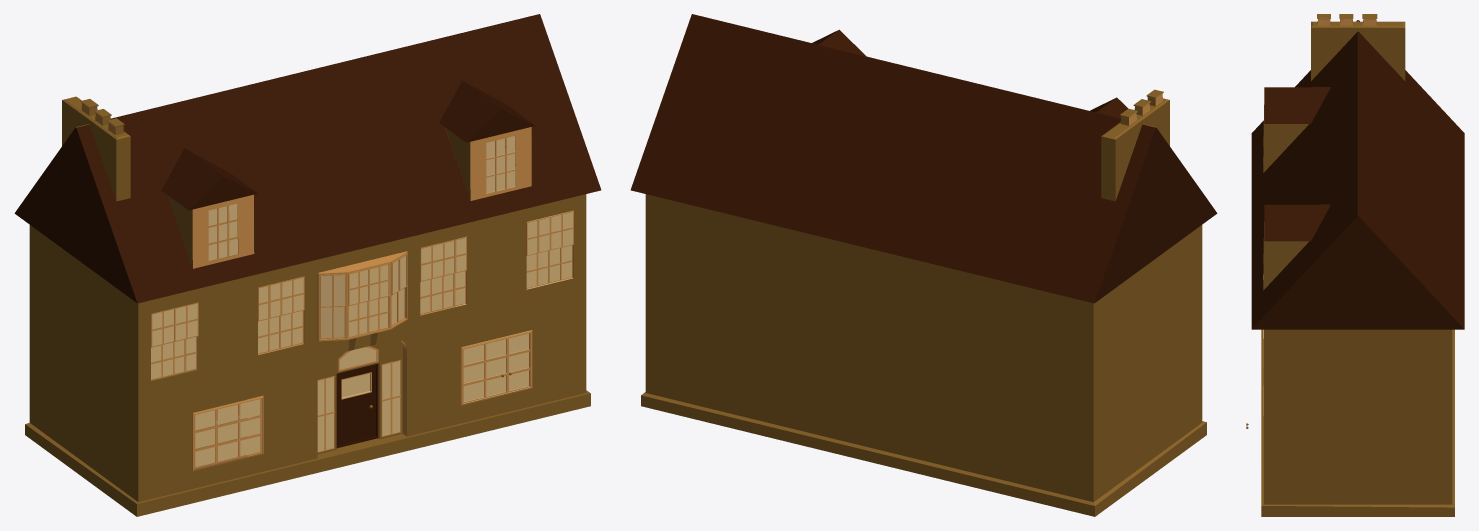
Rendered from House 1.2 1.fbx.
3 renders of one model, left to right at view 1: azimuth 30°, elevation 25°; view 2: azimuth 150°, elevation 25°; view 3: azimuth 270°, elevation 25°, orthographic. The views are drawn at different scales.
Parts seen in each view (by area): view 1: Cube; view 2: Cube; view 3: Cube.
Boxes of the visible parts, x1=… form: Cube: x1=14, y1=14, x2=601, y2=516; Cube: x1=630, y1=14, x2=1217, y2=516; Cube: x1=1251, y1=14, x2=1464, y2=516.
Bounding box in the file's own units: 7.38 × 5.53 × 3.47.
